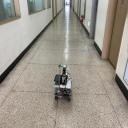cart: (54, 75, 72, 102)
